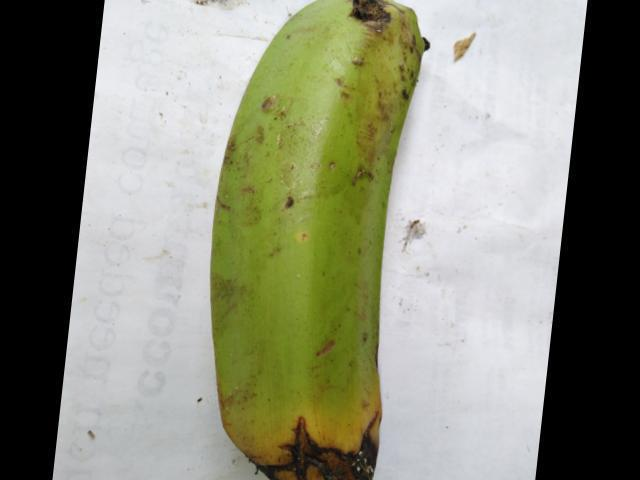rotten: (146, 349, 375, 479)
unripe: (202, 0, 408, 392)
